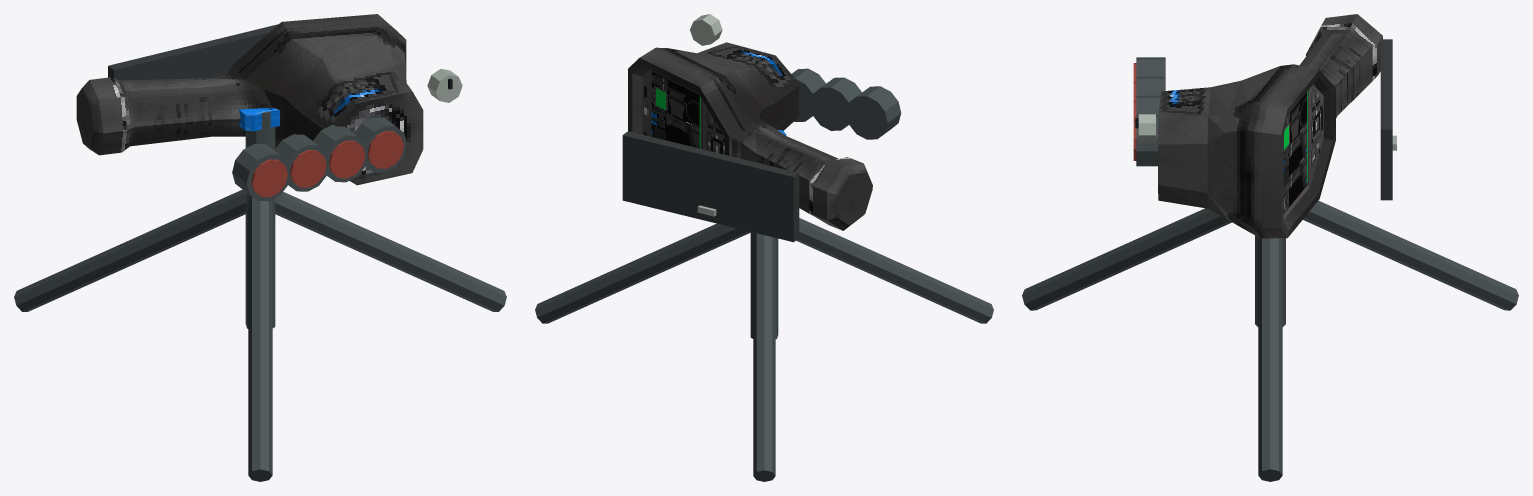
The model's file is blender_laser_grid_3_deployed.glb.
3 renders of one model, left to right at view 1: azimuth 30°, elevation 25°; view 2: azimuth 150°, elevation 25°; view 3: azimuth 270°, elevation 25°, orthographic. The views are drawn at different scales.
Visible parts, largest first — view 1: blender_laser_grid_3_deployed; view 2: blender_laser_grid_3_deployed; view 3: blender_laser_grid_3_deployed.
Boxes of the visible parts, bbox=[...] form: blender_laser_grid_3_deployed: bbox=[14, 14, 506, 481]; blender_laser_grid_3_deployed: bbox=[535, 14, 993, 481]; blender_laser_grid_3_deployed: bbox=[1022, 14, 1518, 481].
Bounding box in the file's own units: 0.2589 × 0.2053 × 0.2868.
1 material, 1 textured.
